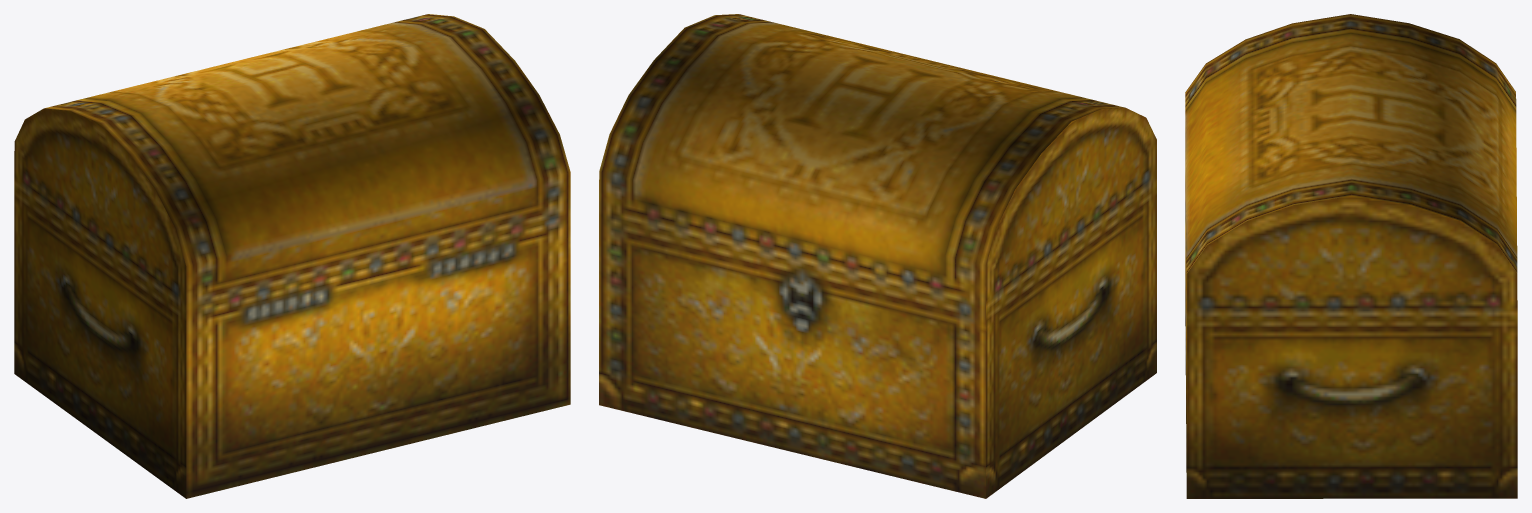
The model's file is GoldTrunk.obj.
The picture shows the model from 3 angles, left to right: view 1: azimuth 30°, elevation 25°; view 2: azimuth 150°, elevation 25°; view 3: azimuth 270°, elevation 25°; orthographic projection. The views are drawn at different scales.
Parts seen in each view (by area): view 1: material_0; view 2: material_0; view 3: material_0.
Boxes of the visible parts, x1,y1,x2,y2 form: material_0: (14, 14, 570, 498); material_0: (599, 14, 1156, 498); material_0: (1185, 14, 1517, 498).
Bounding box in the file's own units: 1.16 × 0.9021 × 0.8967.
1 material, 1 textured.
